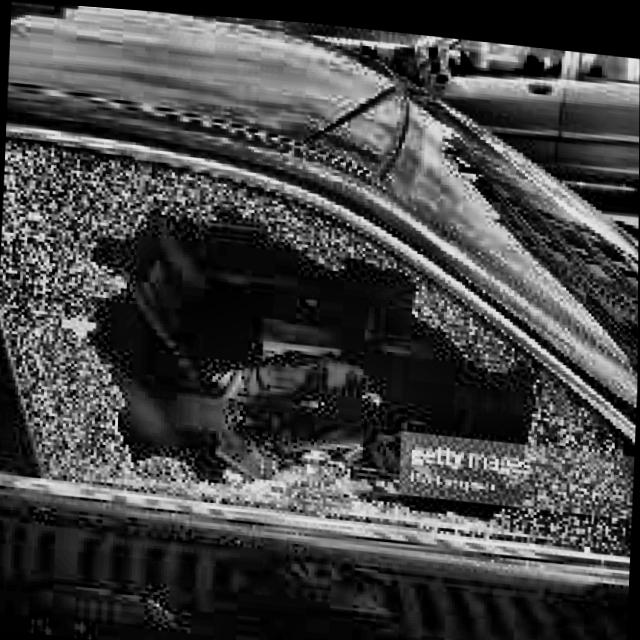glass_shatter: (6, 170, 639, 572)
